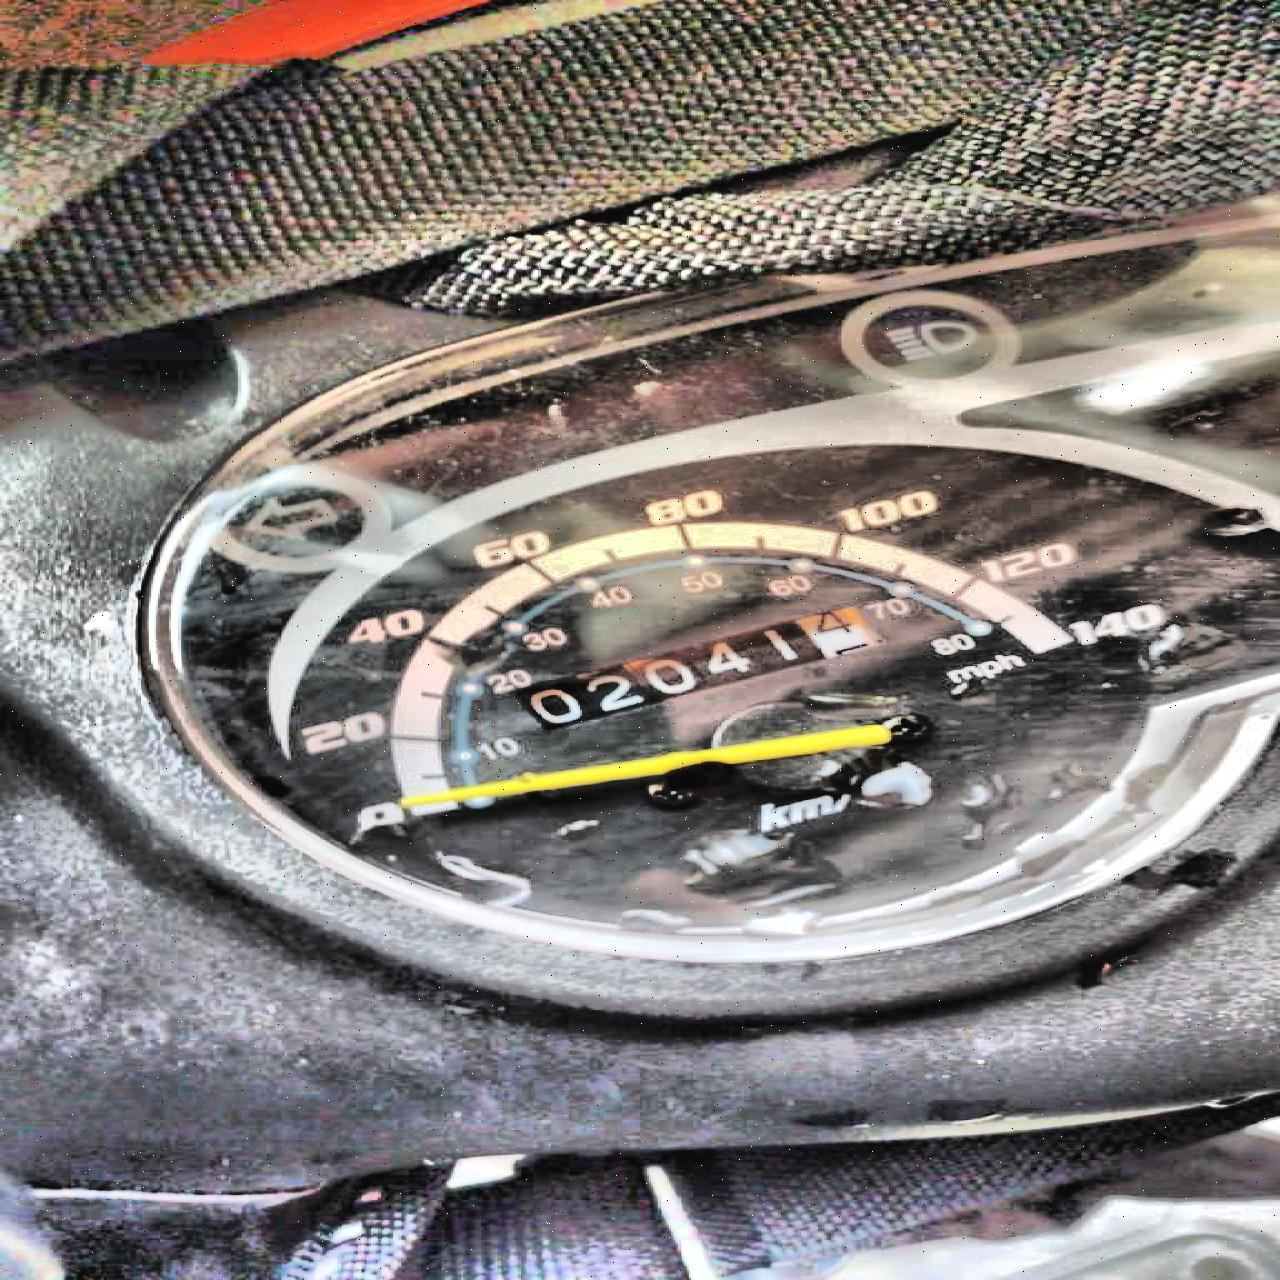0: (520, 690, 583, 726), (640, 658, 697, 693), (506, 667, 533, 687), (540, 625, 568, 644)
1: (761, 626, 796, 660)
2: (580, 673, 645, 710)
3: (517, 631, 546, 651)
4: (702, 640, 754, 674), (811, 608, 856, 636)
7: (863, 601, 885, 619)
odometer: (504, 602, 886, 733)
